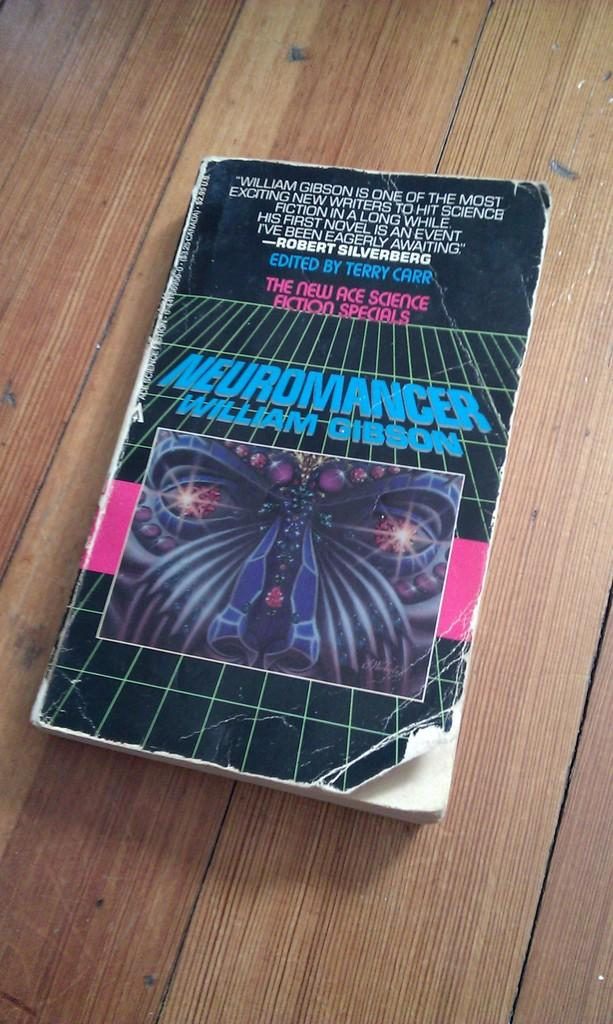book: (29, 157, 552, 829)
